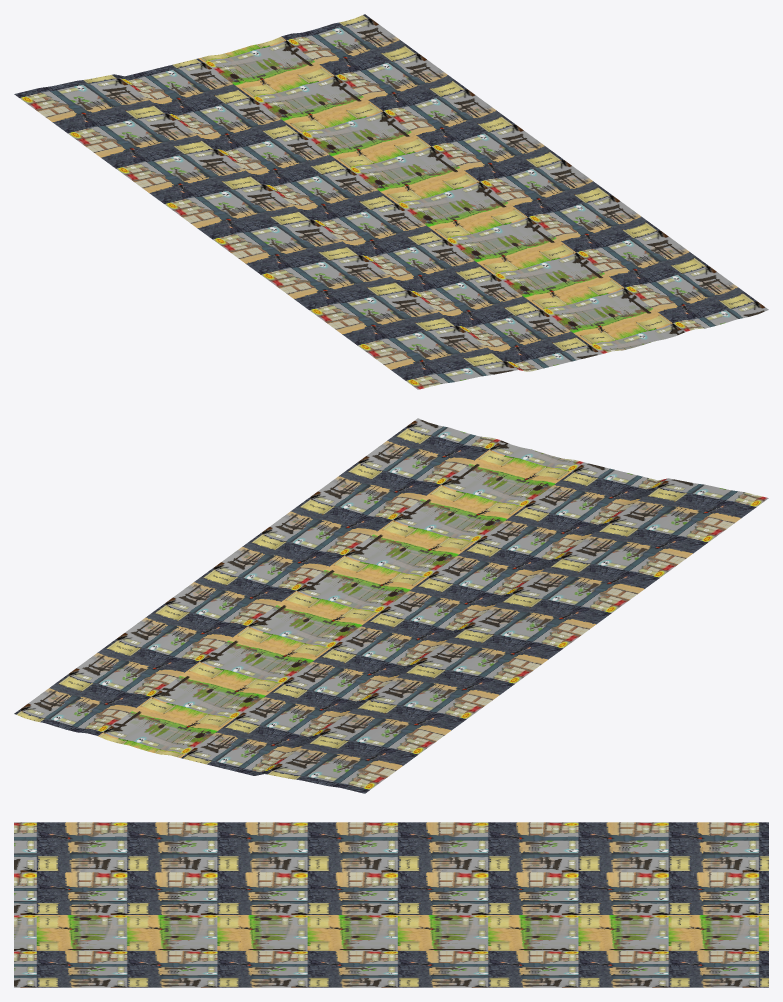
The model's file is level_1_ground.fbx.
3 renders of one model, top to bottom at view 1: azimuth 30°, elevation 25°; view 2: azimuth 150°, elevation 25°; view 3: azimuth 270°, elevation 25°, orthographic. The views are drawn at different scales.
Parts seen in each view (by area): view 1: level_1_ground; view 2: level_1_ground; view 3: level_1_ground.
Part boxes in pixels (left/top/right/bottom): level_1_ground: left=14, top=14, right=768, bottom=389; level_1_ground: left=14, top=418, right=768, bottom=793; level_1_ground: left=14, top=822, right=768, bottom=987.
Size of the model in its own units: 25.08 by 0.7276 by 50.
